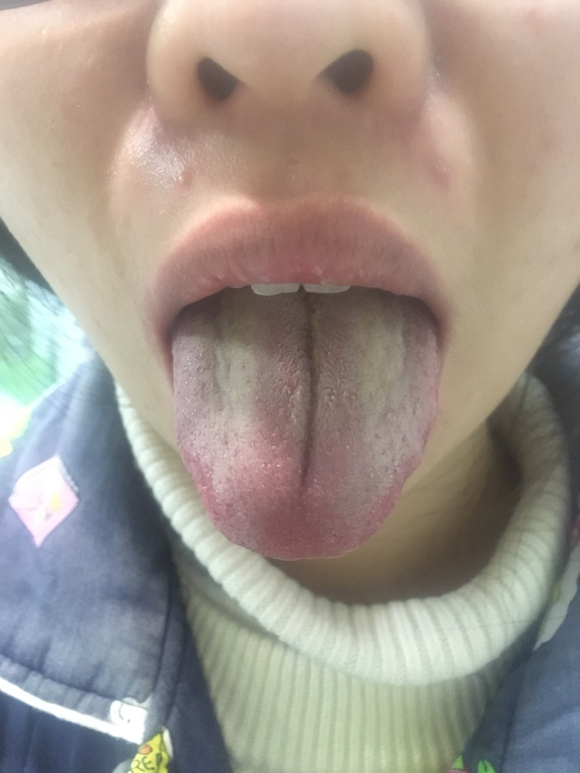huangtaishe: (173, 289, 437, 559)
liewenshe: (299, 294, 316, 492)
zishe: (173, 289, 437, 559)
